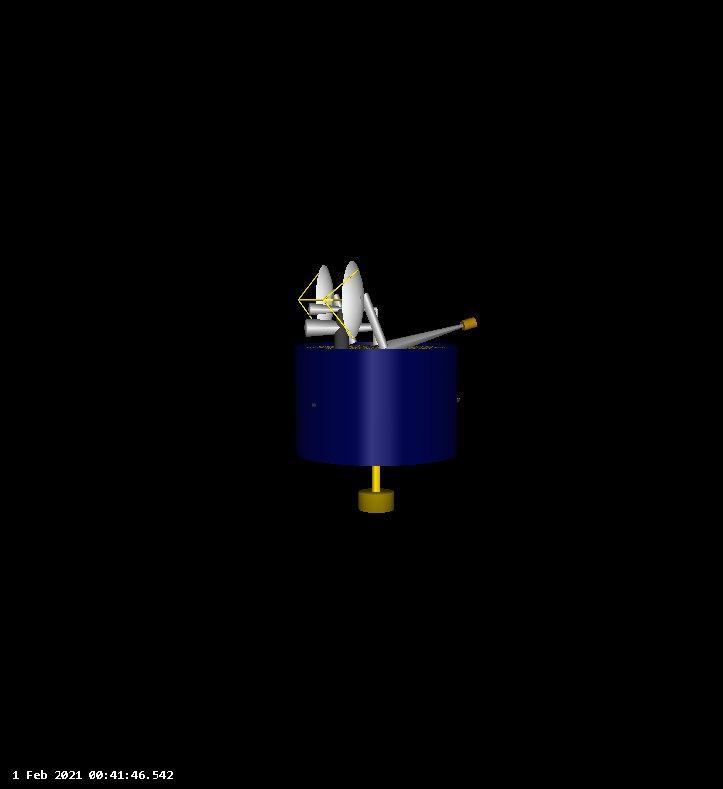antenna: (372, 317, 480, 352), (322, 258, 362, 342), (296, 256, 334, 336)
body: (297, 343, 458, 468)
